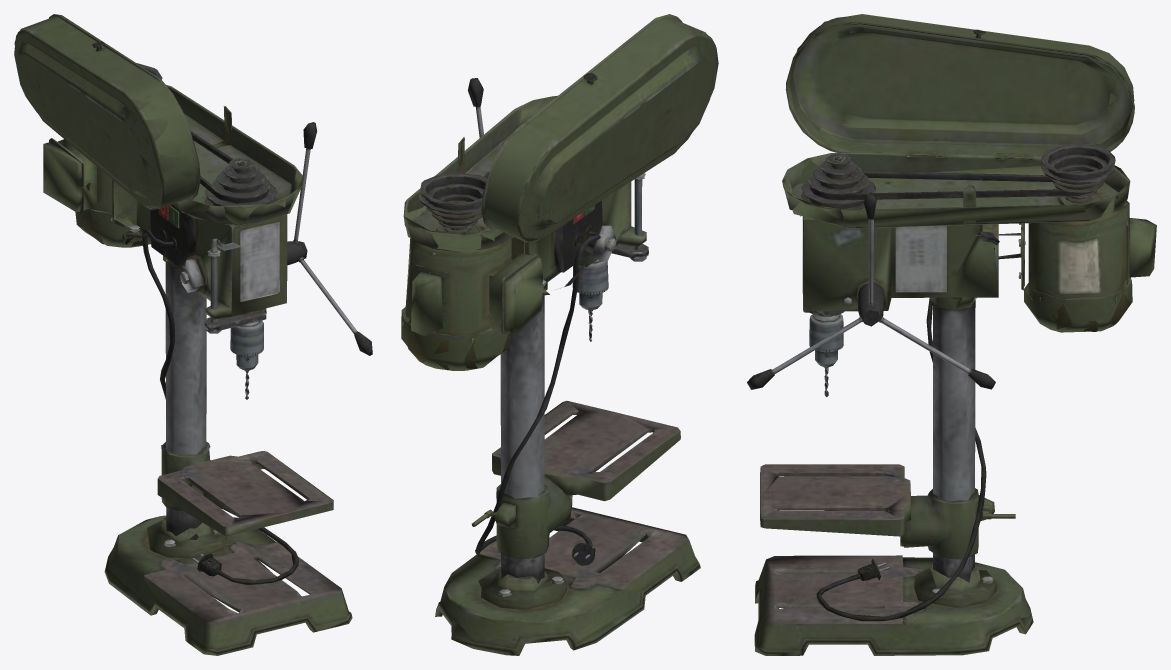
The model's file is drill_press_01.glb.
3 views of the same model, side by side, from view 1: azimuth 30°, elevation 25°; view 2: azimuth 150°, elevation 25°; view 3: azimuth 270°, elevation 25° (orthographic). The views are drawn at different scales.
Visible parts, largest first — view 1: drill_press_01, drill_press_01_lid, drill_press_01_plate, drill_press_01_gear_b, drill_press_01_plug, drill_press_01_handle, drill_press_01_limiter, drill_press_01_bit, drill_press_01_belt; view 2: drill_press_01, drill_press_01_lid, drill_press_01_plate, drill_press_01_gear_a, drill_press_01_plug, drill_press_01_bit, drill_press_01_limiter, drill_press_01_handle; view 3: drill_press_01, drill_press_01_lid, drill_press_01_plate, drill_press_01_handle, drill_press_01_gear_a, drill_press_01_belt, drill_press_01_gear_b, drill_press_01_plug, drill_press_01_bit.
Part boxes in pixels (left/top/right/bottom): drill_press_01: left=43, top=85, right=352, bottom=655; drill_press_01_lid: left=14, top=14, right=200, bottom=209; drill_press_01_plate: left=157, top=441, right=333, bottom=535; drill_press_01_gear_b: left=205, top=158, right=277, bottom=205; drill_press_01_plug: left=141, top=228, right=298, bottom=584; drill_press_01_handle: left=287, top=122, right=372, bottom=355; drill_press_01_limiter: left=204, top=238, right=266, bottom=333; drill_press_01_bit: left=230, top=320, right=263, bottom=399; drill_press_01_belt: left=191, top=131, right=268, bottom=203; drill_press_01: left=401, top=95, right=700, bottom=655; drill_press_01_lid: left=481, top=14, right=718, bottom=242; drill_press_01_plate: left=492, top=400, right=680, bottom=558; drill_press_01_gear_a: left=419, top=172, right=487, bottom=232; drill_press_01_plug: left=475, top=230, right=600, bottom=565; drill_press_01_bit: left=572, top=259, right=608, bottom=341; drill_press_01_limiter: left=611, top=173, right=648, bottom=261; drill_press_01_handle: left=468, top=78, right=483, bottom=137; drill_press_01: left=754, top=152, right=1156, bottom=655; drill_press_01_lid: left=785, top=14, right=1134, bottom=159; drill_press_01_plate: left=760, top=464, right=994, bottom=559; drill_press_01_handle: left=747, top=192, right=995, bottom=389; drill_press_01_gear_a: left=1041, top=143, right=1115, bottom=202; drill_press_01_belt: left=810, top=171, right=1093, bottom=200; drill_press_01_gear_b: left=801, top=153, right=875, bottom=209; drill_press_01_plug: left=816, top=298, right=986, bottom=621; drill_press_01_bit: left=809, top=314, right=843, bottom=396.
Bounding box in the file's own units: 0.3543 × 0.9011 × 0.5988.
1 material, 1 textured.
